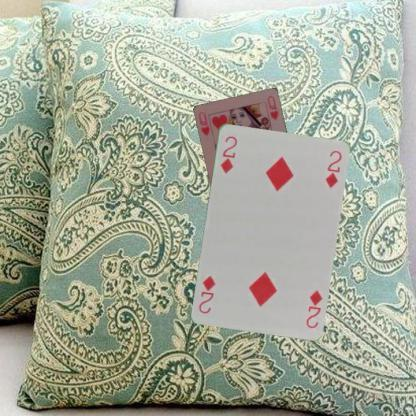2d: (217, 132, 238, 174), (304, 287, 324, 329)
Qh: (197, 108, 214, 138)
